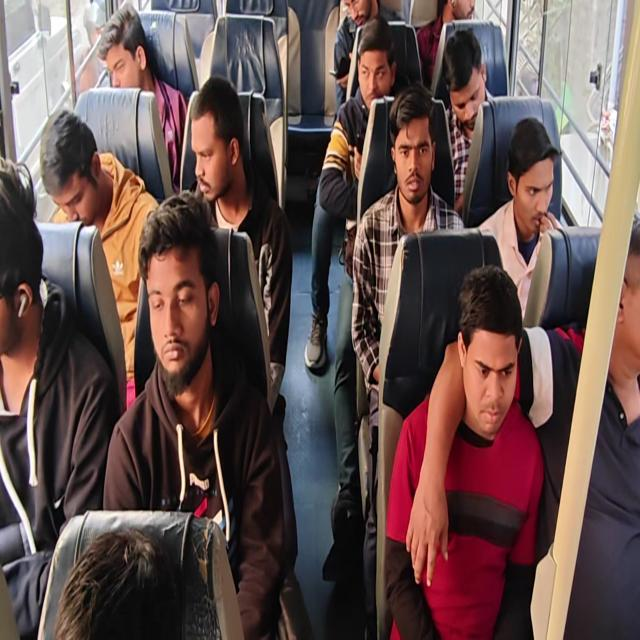person: (47, 533, 234, 636), (136, 193, 218, 415), (0, 136, 55, 377), (456, 250, 518, 449), (383, 83, 444, 232), (600, 201, 640, 396), (39, 96, 107, 210), (440, 20, 487, 137), (97, 10, 152, 103), (511, 115, 554, 232), (359, 16, 390, 100), (439, 0, 488, 30), (337, 0, 379, 29)
